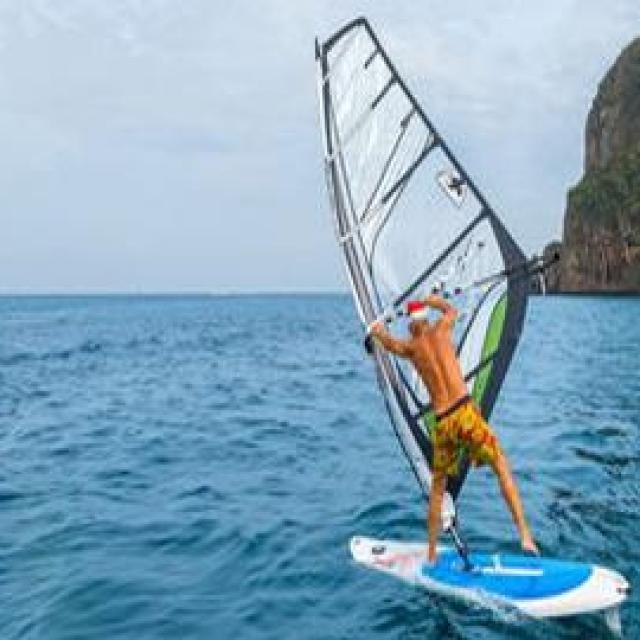sailboat: (316, 12, 633, 620)
